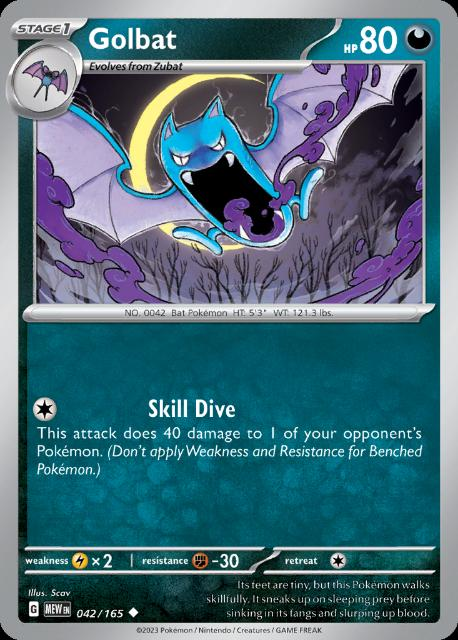Card: (0, 0, 458, 640)
Name: (85, 22, 193, 55)
